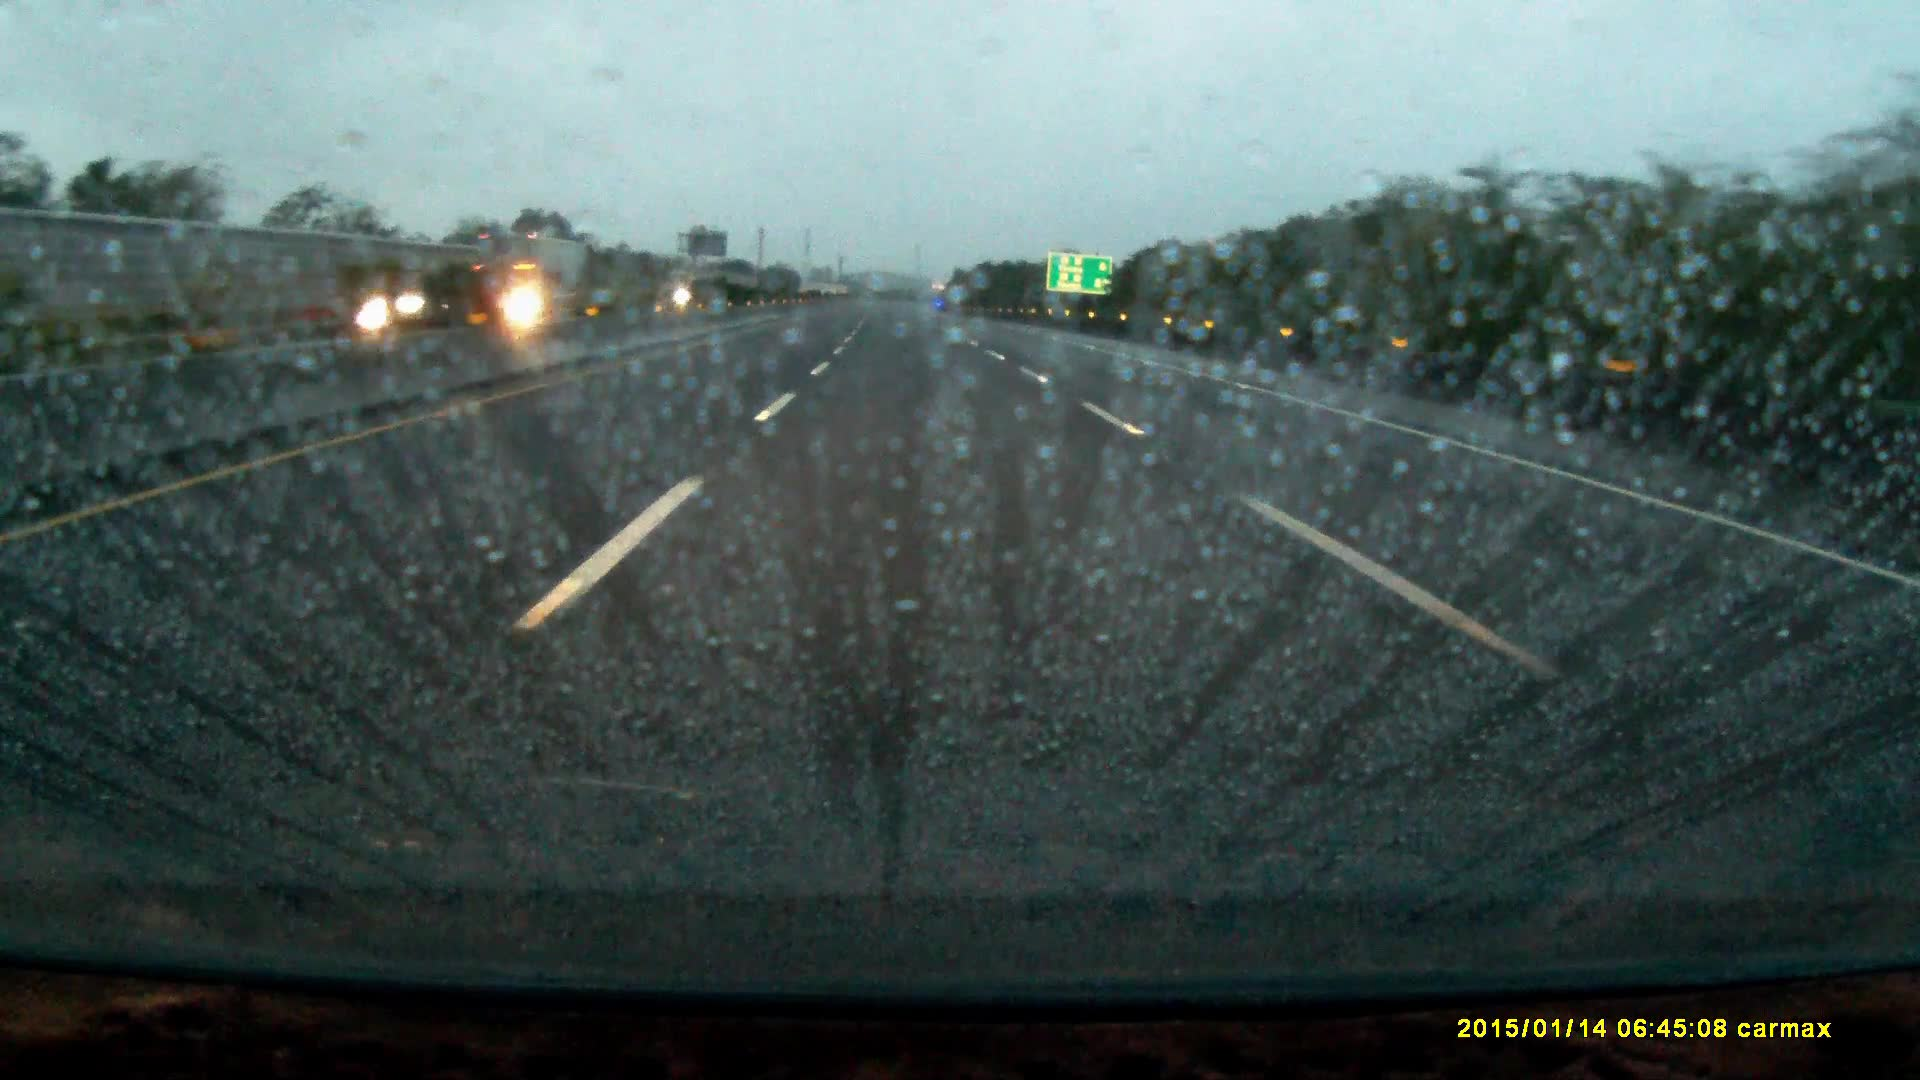vehicle: (469, 233, 587, 322), (359, 281, 452, 332)
